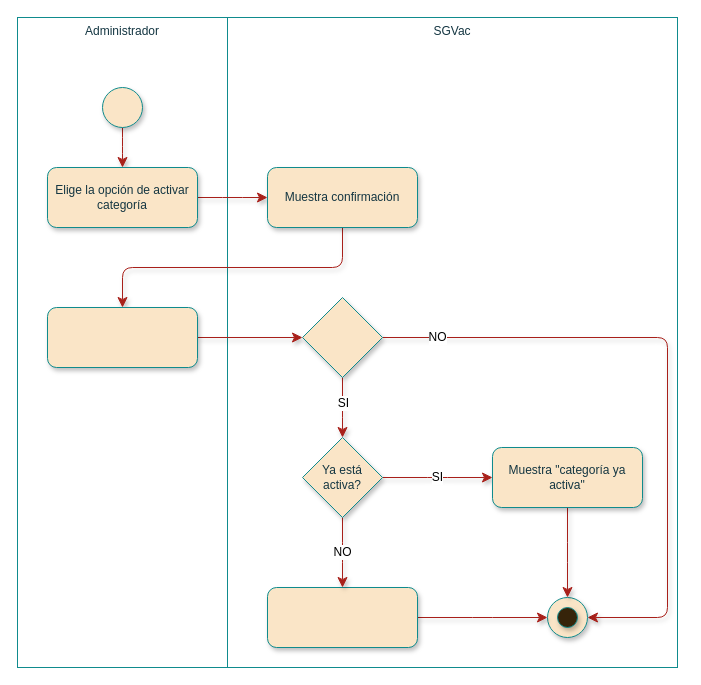
This 701x685 diagram has some shape labels left out. The centre of each missing label's shape, as x and y in pixels:
"Acepta o cancela" belongs at pixel 123 338.
"Activa categoría" belongs at pixel 343 618.
"Confirma?" belongs at pixel 343 338.
